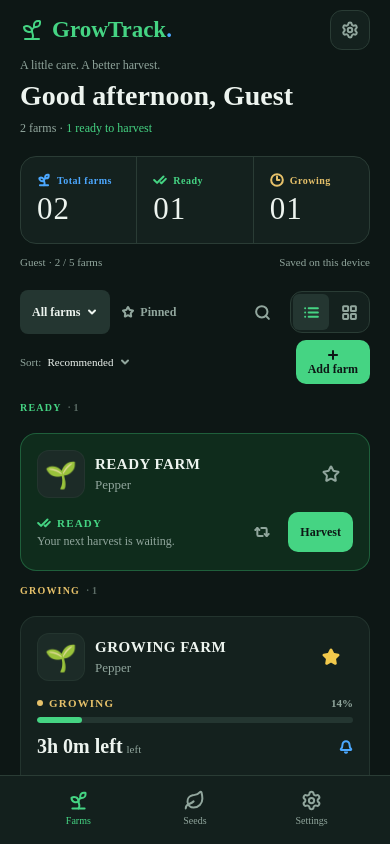
Test: DashboardScreen Toolbar & Filter Dropdown › selects "Ready" option, updates button label, and closes dropdown
Click the button with aria-label "Filter farms: All farms".
click(65, 312)  # box 20,290 -> 110,334
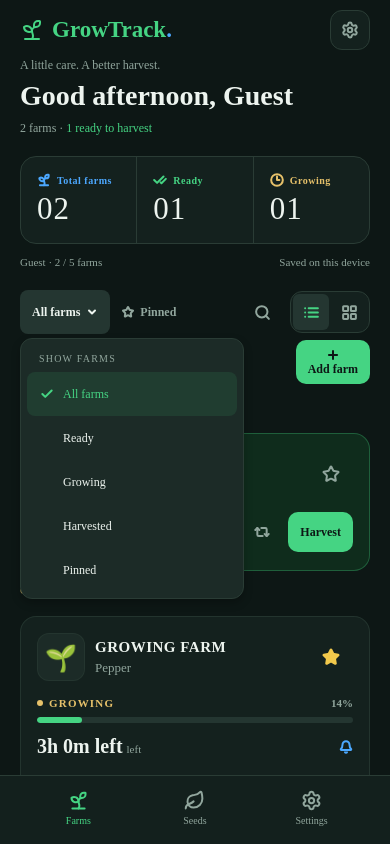
Select "Ready" (index 1 of menu items: All, Ready, Growing, Harvested, Pinned)
Click the menu item "Ready".
click(78, 438)  # box 63,430 -> 94,444
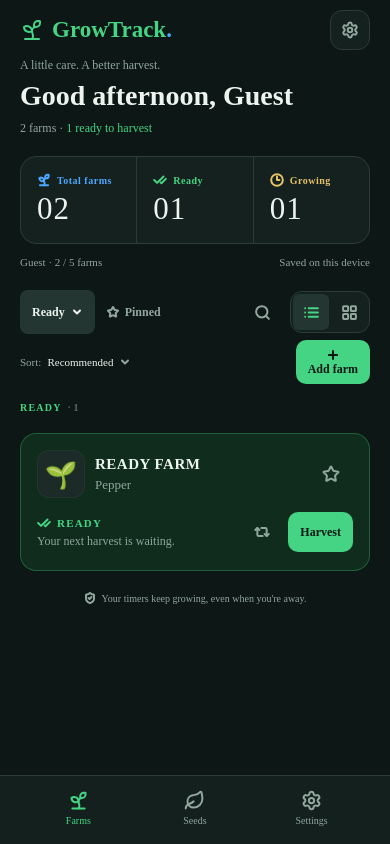
Result: the text "SHOW FARMS" is gone
Result: the button with aria-label "Filter farms: Ready" is shown at 20,290 -> 95,334
